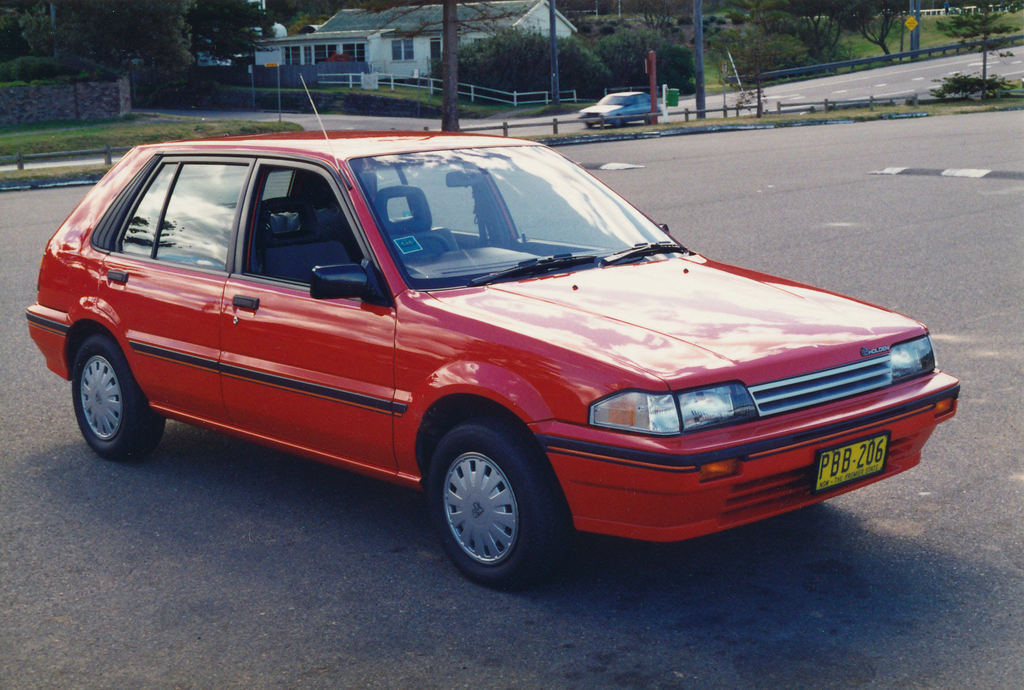Car: (29, 134, 948, 586), (582, 87, 661, 126)
